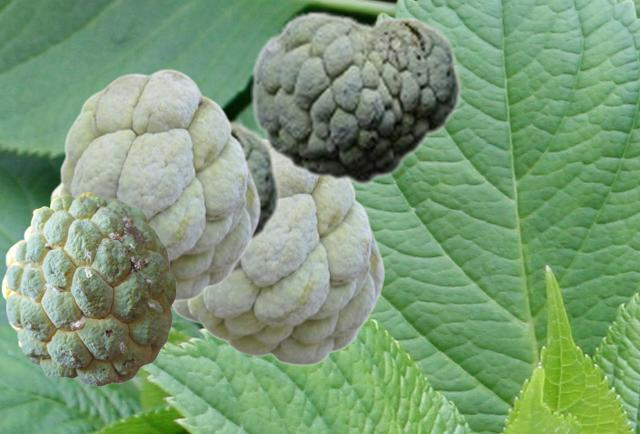atis: (48, 68, 260, 300), (172, 156, 384, 365), (250, 10, 461, 185), (1, 192, 175, 385), (228, 115, 280, 253)
